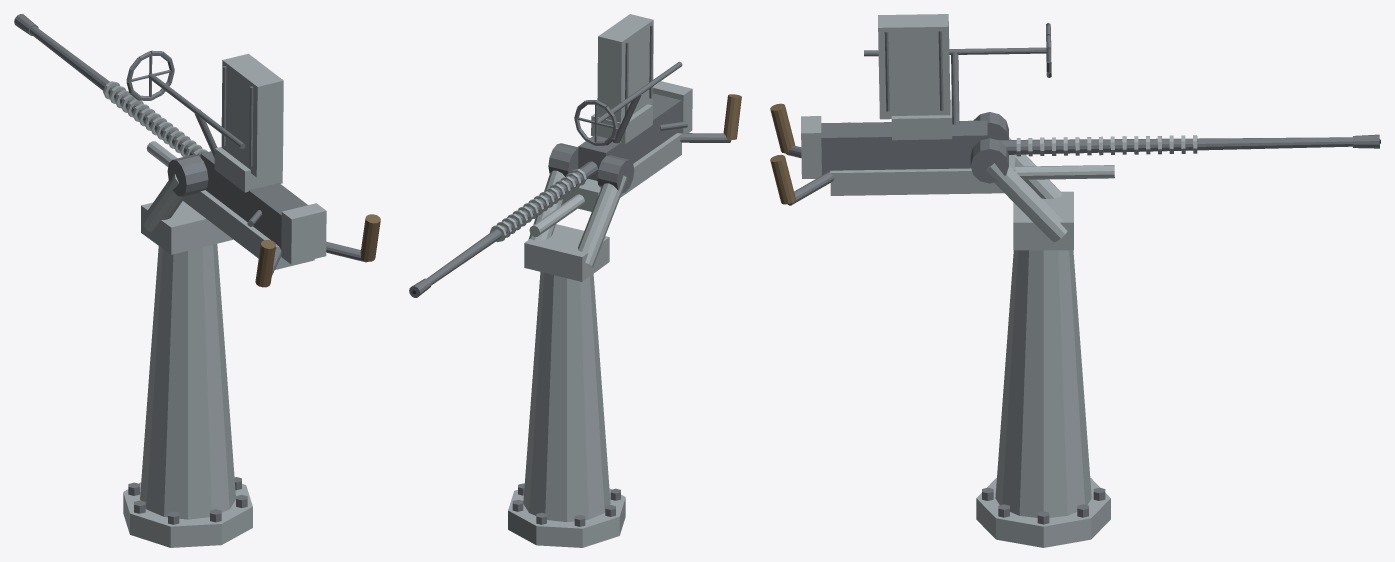
The picture shows the model from 3 angles, left to right: view 1: azimuth 30°, elevation 25°; view 2: azimuth 150°, elevation 25°; view 3: azimuth 270°, elevation 25°; orthographic projection. The views are drawn at different scales.
Parts seen in each view (by area): view 1: component.yaw.mesh, component.center.recoil.mesh, component.center.elevation.mesh, component.base.mesh; view 2: component.yaw.mesh, component.center.recoil.mesh, component.center.elevation.mesh, component.base.mesh; view 3: component.yaw.mesh, component.center.recoil.mesh, component.center.elevation.mesh, component.base.mesh.
Part boxes in pixels (x1,y1,x2,y2): component.yaw.mesh: (140,154,235,519); component.center.recoil.mesh: (14,14,326,264); component.center.elevation.mesh: (126,50,380,287); component.base.mesh: (123,477,252,547); component.yaw.mesh: (523,143,634,522); component.center.recoil.mesh: (409,14,692,297); component.center.elevation.mesh: (529,61,741,236); component.base.mesh: (508,483,625,547); component.yaw.mesh: (970,112,1091,517); component.center.recoil.mesh: (801,14,1380,178); component.center.elevation.mesh: (770,23,1114,205); component.base.mesh: (976,478,1110,547).
Size of the model in its own units: 0.406 by 1.64 by 1.82.
